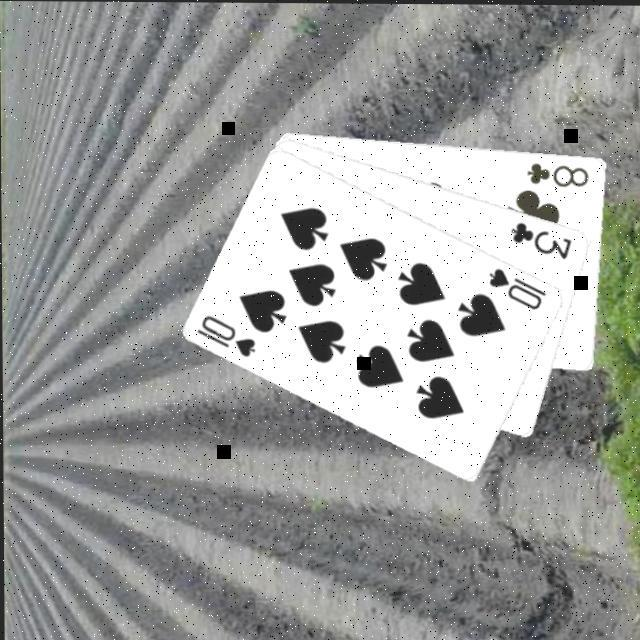10S: (192, 312, 258, 361), (484, 264, 549, 312)
3C: (506, 218, 574, 262)
8C: (523, 159, 591, 189)
